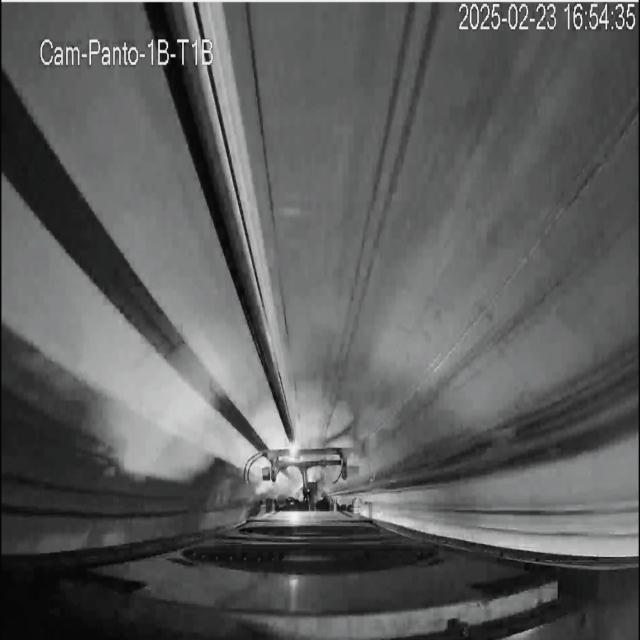Camera Stamp: (39, 31, 221, 69)
Date Stamp: (458, 3, 635, 33)
Sparks: (285, 436, 304, 464)
